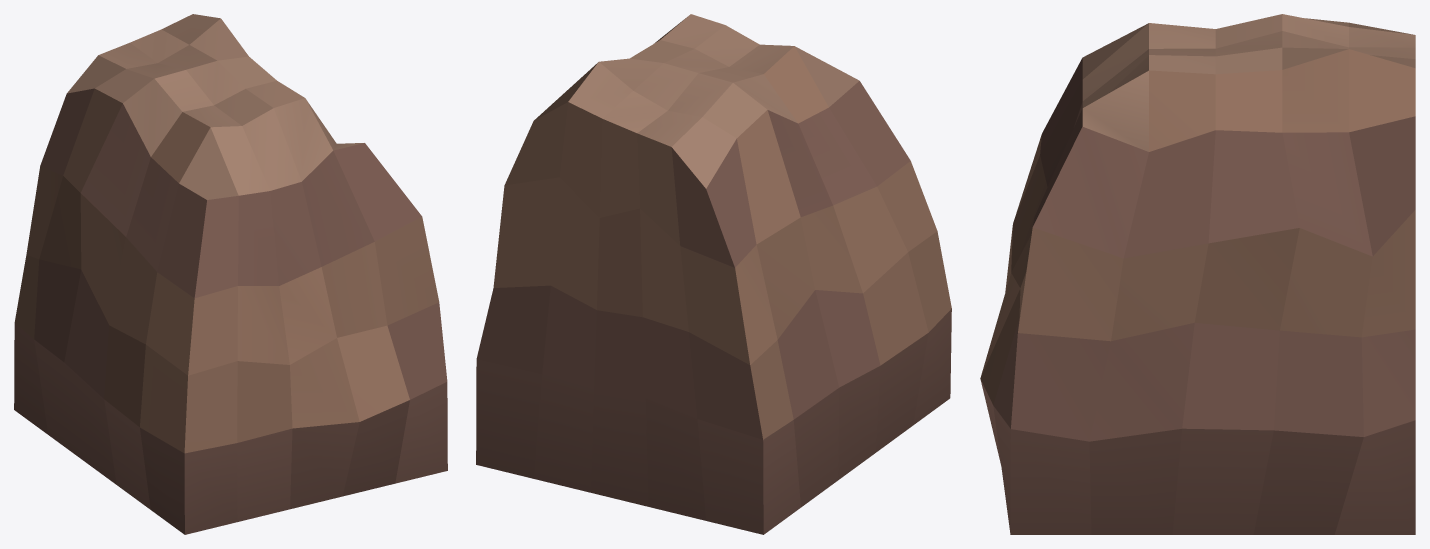
File: roca_punta_2.glb
3 renders of one model, left to right at view 1: azimuth 30°, elevation 25°; view 2: azimuth 150°, elevation 25°; view 3: azimuth 270°, elevation 25°, orthographic. The views are drawn at different scales.
Visible parts, largest first — view 1: propforge-cuartos-roca_punta; view 2: propforge-cuartos-roca_punta; view 3: propforge-cuartos-roca_punta.
Boxes of the visible parts, x1,y1,x2,y2 form: propforge-cuartos-roca_punta: (14,14,447,534); propforge-cuartos-roca_punta: (476,14,951,534); propforge-cuartos-roca_punta: (980,14,1415,534).
Bounding box in the file's own units: 0.8683 × 1.07 × 0.967.
